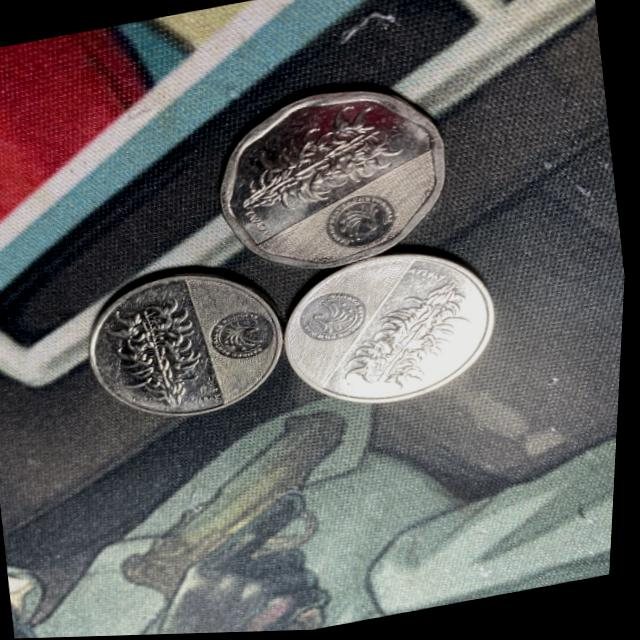5_New_Back: (230, 106, 412, 215), (97, 295, 214, 421), (348, 288, 473, 401)
